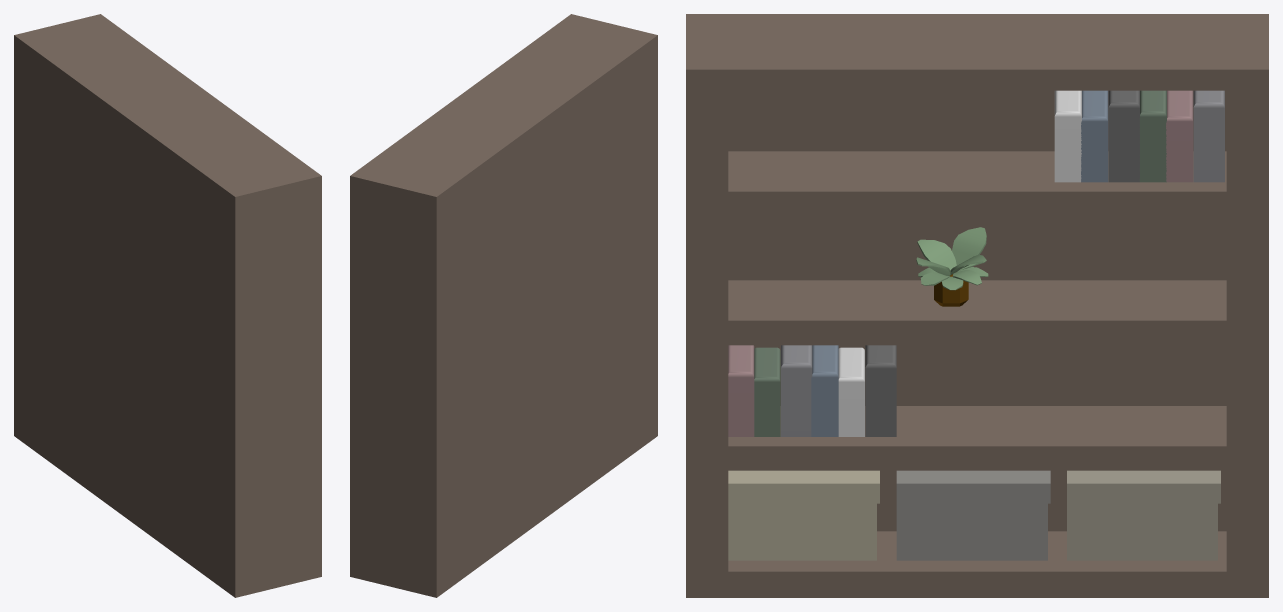
The model's file is boek.fbx.
The picture shows the model from 3 angles, left to right: view 1: azimuth 30°, elevation 25°; view 2: azimuth 150°, elevation 25°; view 3: azimuth 270°, elevation 25°; orthographic projection. The views are drawn at different scales.
Parts seen in each view (by area): view 1: polySurface4; view 2: polySurface4; view 3: polySurface4, pasted__pCube2, pasted__pasted__pCube2, pCube2, pasted__pasted__pCube1 (×4), pasted__pCube1 (×3), pasted__pasted__pasted__pCube1 (×3), pasted__pasted__group5_pasted__pasted__group3_pasted__pasted, pCube1, pasted__pasted__pasted__pasted__pCube1.
Boxes of the visible parts, x1,y1,x2,y2 form: polySurface4: (14,14,321,597); polySurface4: (350,14,657,597); polySurface4: (686,14,1268,597); pasted__pCube2: (896,470,1050,560); pasted__pasted__pCube2: (1067,470,1220,560); pCube2: (728,470,879,560); pasted__pasted__pCube1 (×4): (754,90,1166,436); pasted__pCube1 (×3): (781,90,1193,436); pasted__pasted__pasted__pCube1 (×3): (728,90,1081,436); pasted__pasted__group5_pasted__pasted__group3_pasted__pasted: (916,227,988,306); pCube1: (1193,90,1224,182); pasted__pasted__pasted__pasted__pCube1: (811,345,838,436).
Size of the model in its own units: 1.51 by 6.67 by 6.67.
